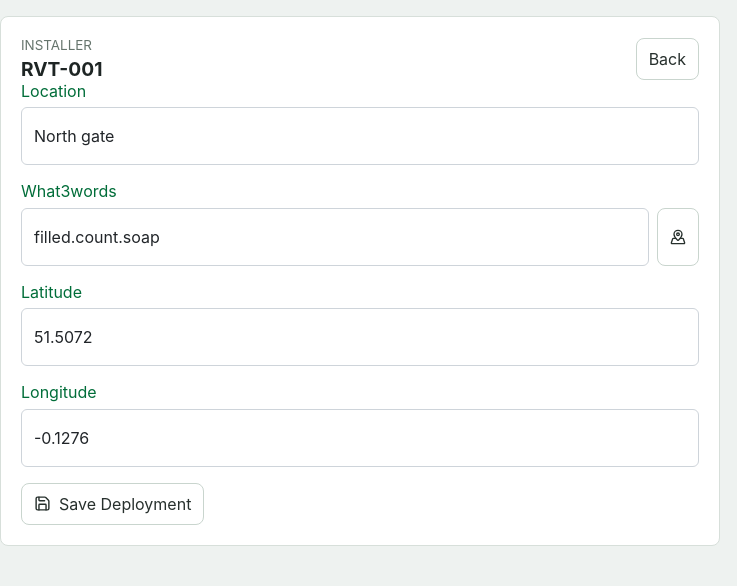
Test case: Installer deployment coordinates › rejects a mistyped coordinate with a field error instead of an opaque 400
Replace the text in the field showing "-0.1276" with "-0.12.76": (360, 438) [21,409,699,467]
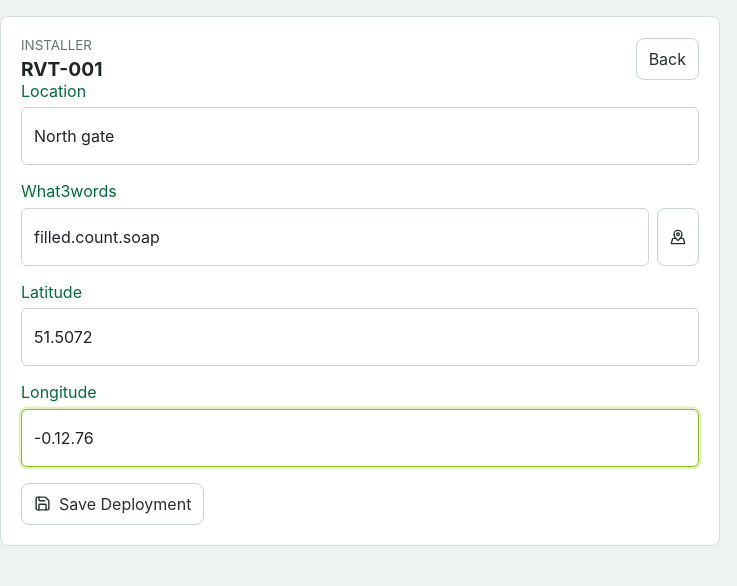
Click the button "Save Deployment": click(113, 504) [21,483,204,525]
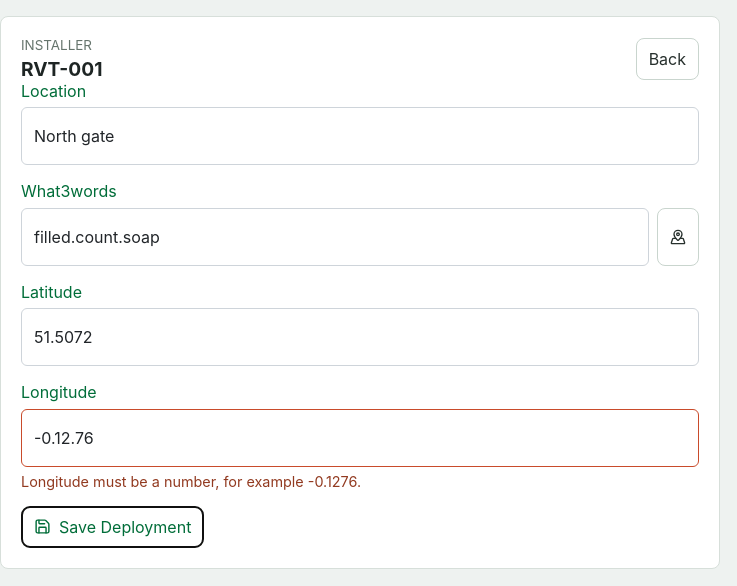
Check: the text "Longitude must be a number, for example -0.1276." is shown, box [21,473,361,490]
